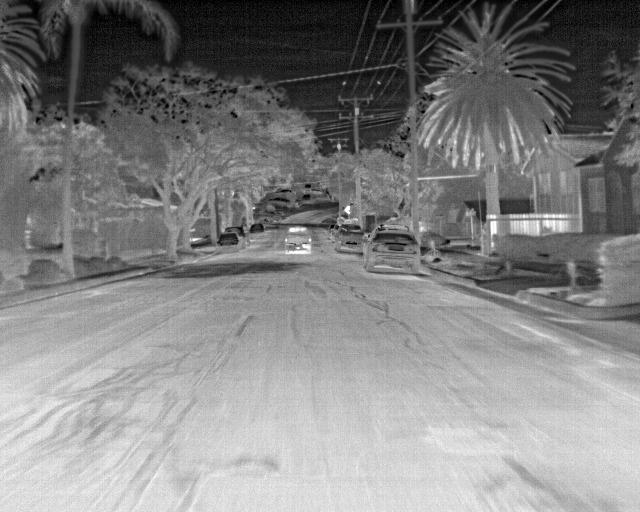car: (364, 231, 418, 276), (335, 228, 363, 254), (285, 227, 313, 253), (226, 227, 247, 245), (216, 235, 238, 251), (250, 224, 263, 239)
